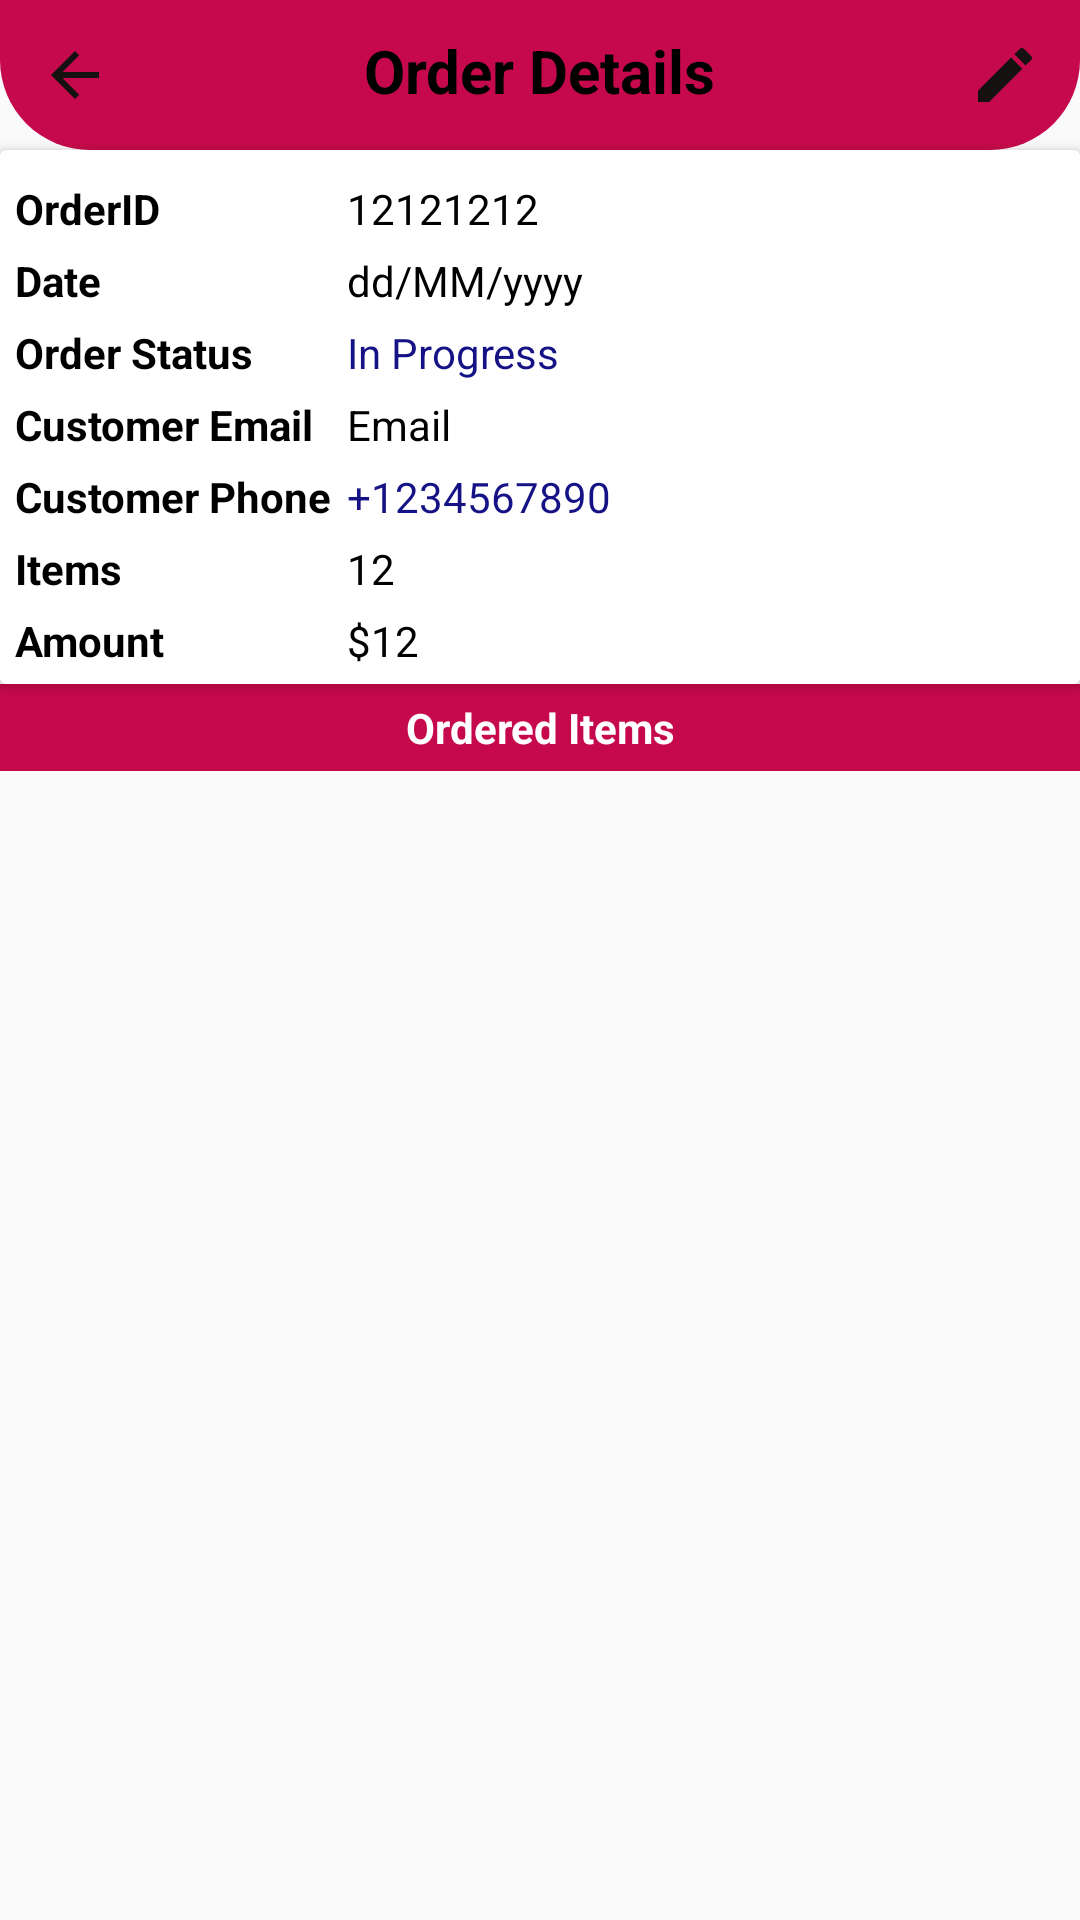

Screen size 1080*1920. Icon name, then its box in pixels as bbox=(x1, y1, x2, y2):
back: bbox=(51, 51, 99, 99)
edit: bbox=(978, 48, 1032, 102)
